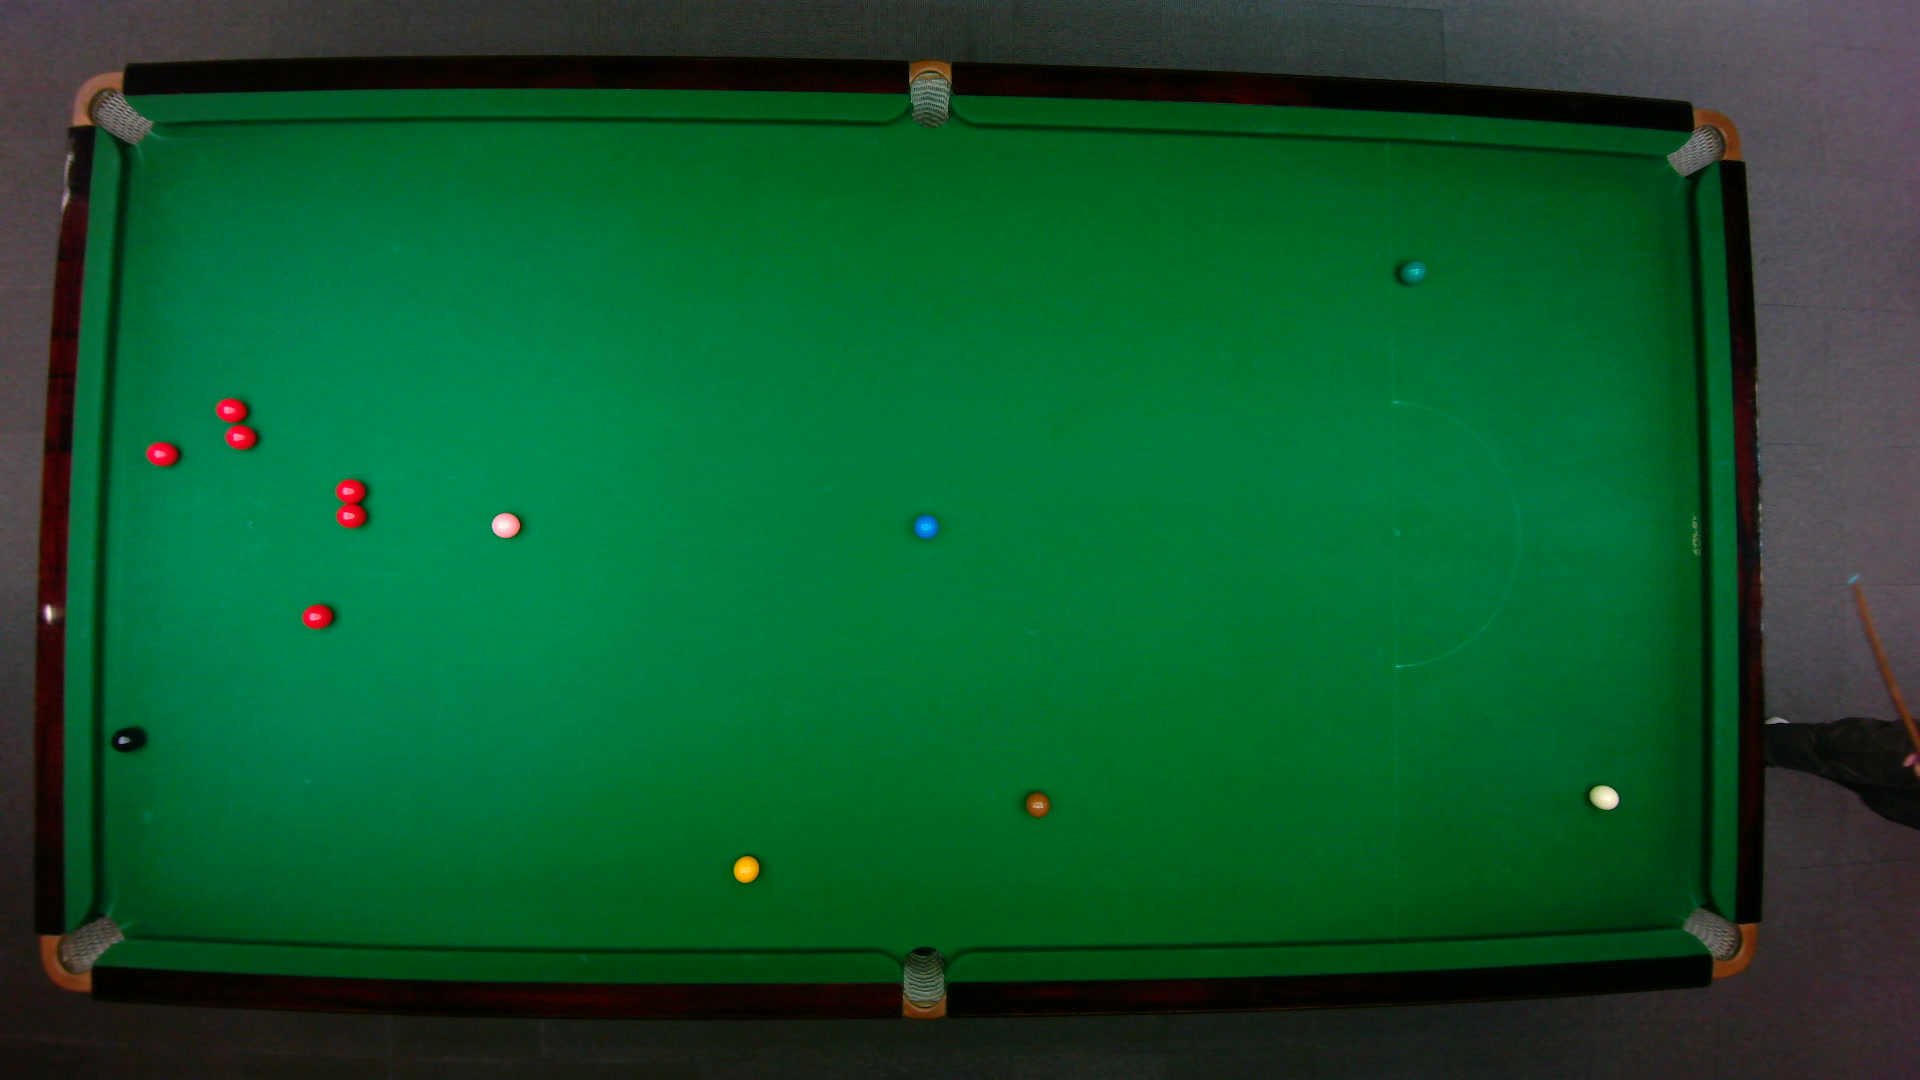bag: (37, 913, 127, 992), (69, 69, 154, 145), (1677, 905, 1756, 978), (1663, 107, 1741, 177), (901, 944, 944, 1021), (909, 57, 949, 128)
black: (108, 725, 138, 752)
blue: (913, 512, 938, 539)
brown: (1022, 790, 1050, 818)
cue: (1847, 574, 1920, 760)
green: (1396, 258, 1425, 284)
pink: (489, 509, 521, 539)
red: (299, 601, 334, 629), (223, 423, 258, 450), (214, 396, 248, 422), (332, 476, 367, 502), (144, 440, 179, 465), (334, 502, 367, 529)
white: (1586, 783, 1619, 810)
yellow: (731, 853, 760, 884)
zone: (1390, 398, 1520, 669)
